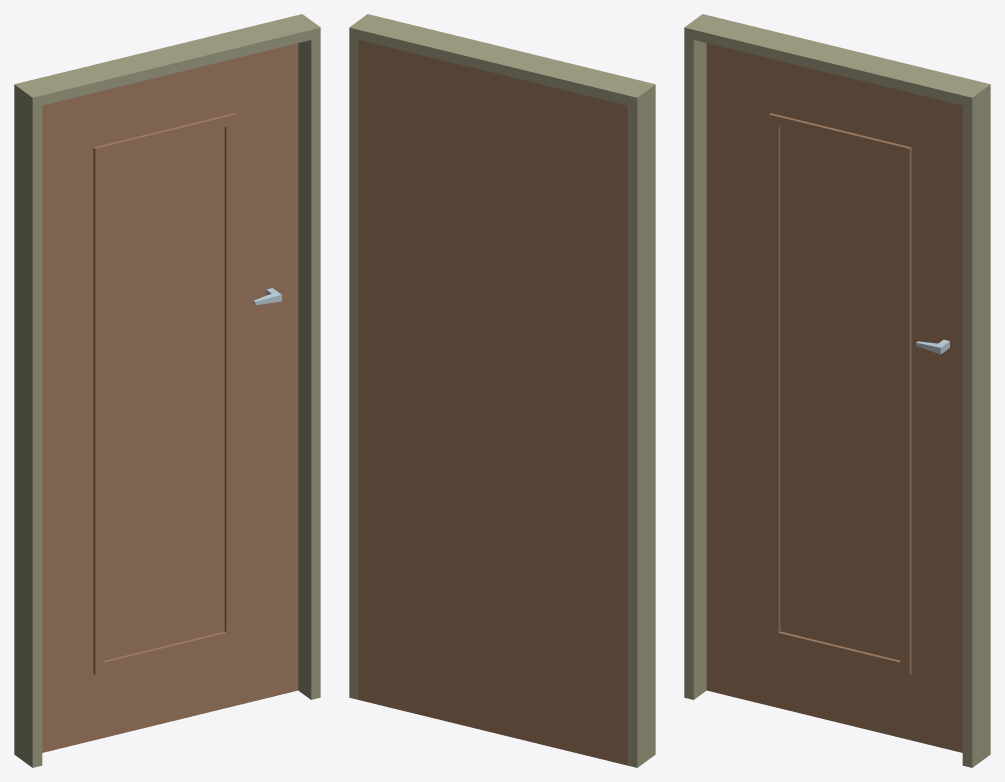
Rendered from PantryDoor.fbx.
3 renders of one model, left to right at view 1: azimuth 30°, elevation 25°; view 2: azimuth 150°, elevation 25°; view 3: azimuth 330°, elevation 25°, orthographic.
Visible parts, largest first — view 1: DoorPanel1m_1_2, DoorFrames1m_1_2; view 2: DoorPanel1m_1_2, DoorFrames1m_1_2; view 3: DoorPanel1m_1_2, DoorFrames1m_1_2.
Boxes of the visible parts, x1,y1,x2,y2 form: DoorPanel1m_1_2: [42, 43, 298, 752]; DoorFrames1m_1_2: [14, 14, 320, 767]; DoorPanel1m_1_2: [358, 40, 627, 765]; DoorFrames1m_1_2: [349, 14, 655, 767]; DoorPanel1m_1_2: [706, 43, 962, 752]; DoorFrames1m_1_2: [684, 14, 990, 767].
Bounding box in the file's own units: 0.9 × 2 × 0.1.
